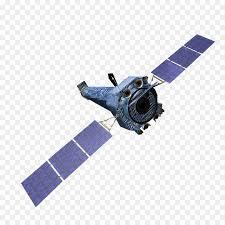body: (77, 71, 168, 136)
solar: (19, 118, 114, 209), (149, 31, 219, 86)
thruster: (132, 77, 145, 90), (122, 88, 133, 100)
